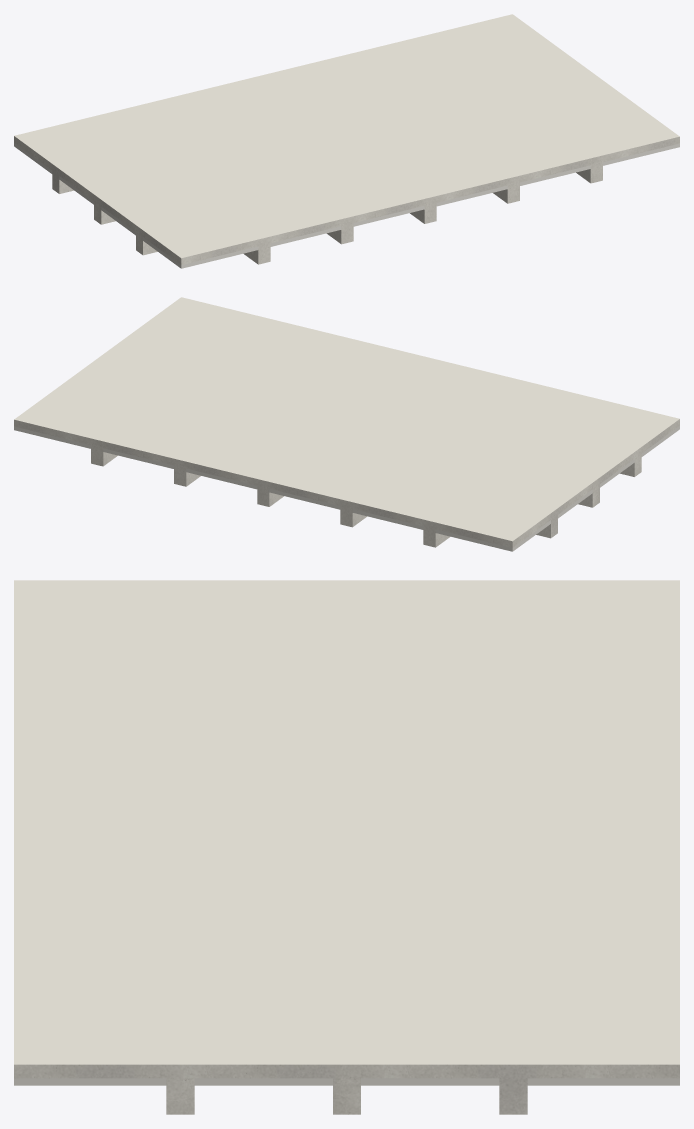
Rendered from coffers.glb.
The picture shows the model from 3 angles, top to bottom: view 1: azimuth 30°, elevation 25°; view 2: azimuth 150°, elevation 25°; view 3: azimuth 270°, elevation 25°; orthographic projection. The views are drawn at different scales.
Visible parts, largest first — view 1: coffers_plaster, coffers_trim; view 2: coffers_plaster, coffers_trim; view 3: coffers_plaster, coffers_trim.
Part boxes in pixels (box(x1,y1,x2,y2)): coffers_plaster: box(14, 14, 679, 264); coffers_trim: box(14, 143, 679, 268); coffers_plaster: box(14, 297, 679, 547); coffers_trim: box(14, 426, 679, 551); coffers_plaster: box(14, 580, 679, 1114); coffers_trim: box(14, 1078, 679, 1085).
Size of the model in its own units: 11.4 by 0.55 by 6.62.
2 materials, 1 textured.
